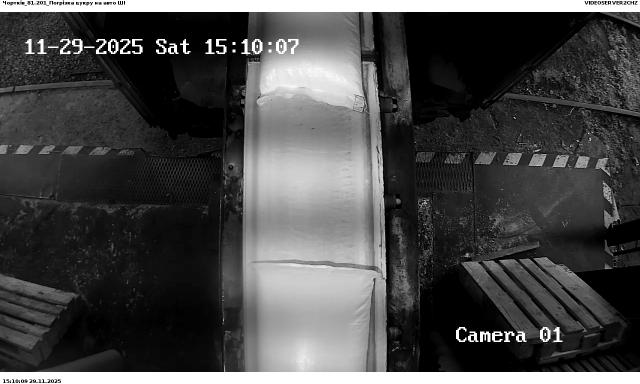bag: (250, 264, 381, 372), (258, 12, 370, 111)
